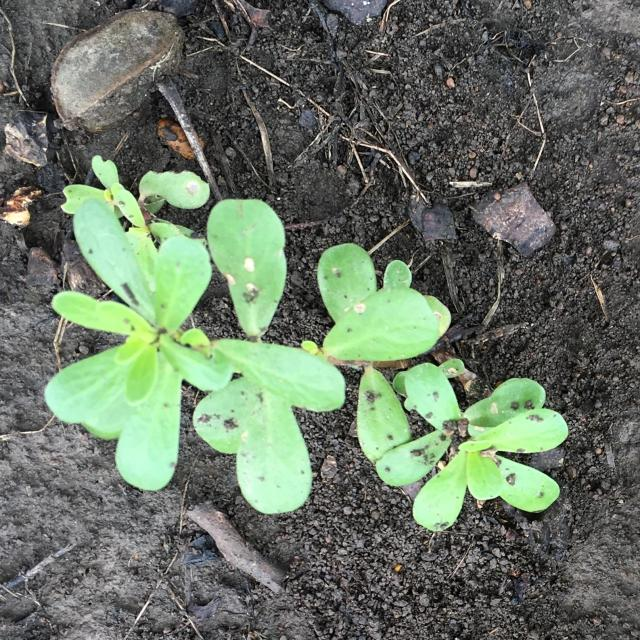Purslane: (44, 155, 569, 532)
